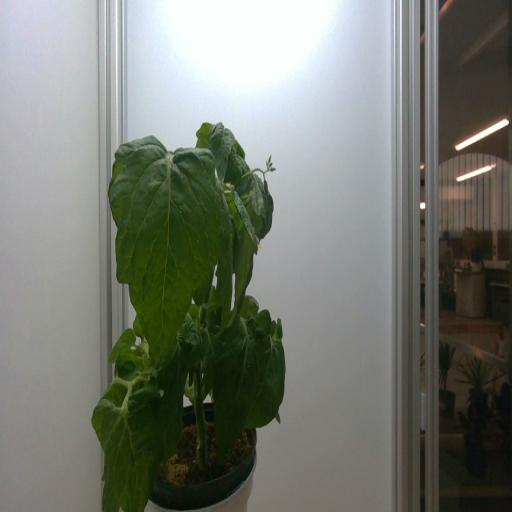Tomato-Leaves-Cupboard-: (110, 138, 226, 377), (211, 314, 270, 474), (95, 387, 160, 512), (246, 306, 298, 448), (223, 186, 258, 337), (155, 337, 187, 462), (211, 216, 236, 330), (253, 178, 277, 246), (178, 314, 204, 371), (98, 464, 124, 512), (105, 326, 137, 364), (211, 127, 230, 184), (229, 146, 249, 188), (133, 305, 147, 346), (194, 122, 215, 148)
